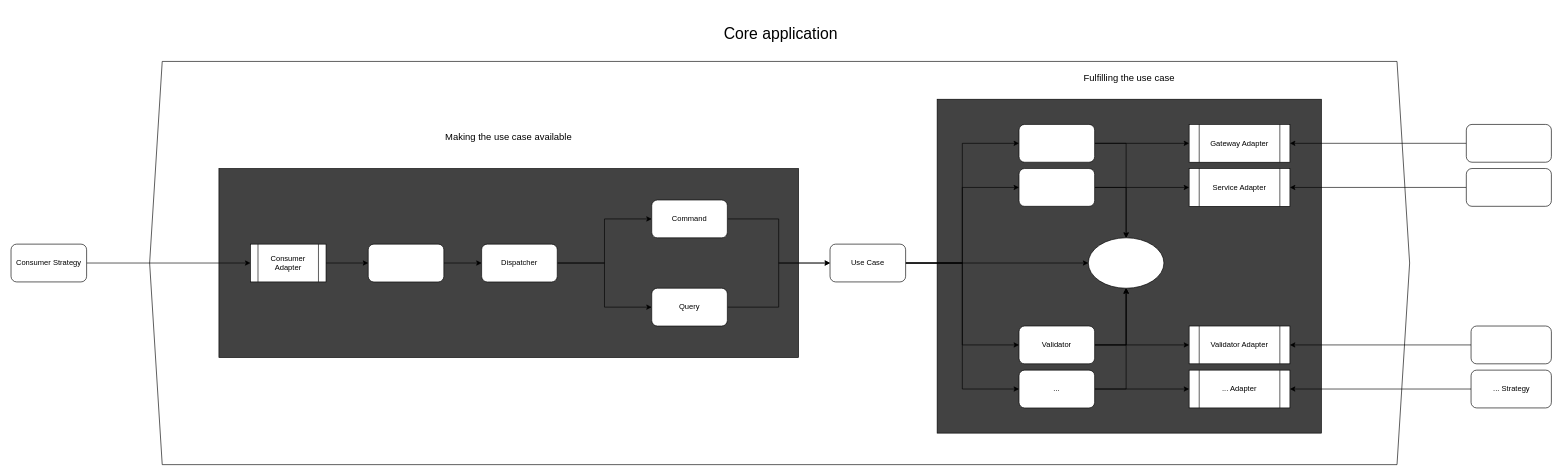
Image size: 1562x476. Some labels were removed from this diagram. The centre of each missing label's shape, as x and y in pixels:
Entity: (x=1126, y=262)
Gateway: (x=1056, y=143)
Gateway Strategy: (x=1508, y=143)
Receiver: (x=406, y=262)
Service: (x=1056, y=187)
Service Strategy: (x=1508, y=187)
Validator Strategy: (x=1510, y=344)
